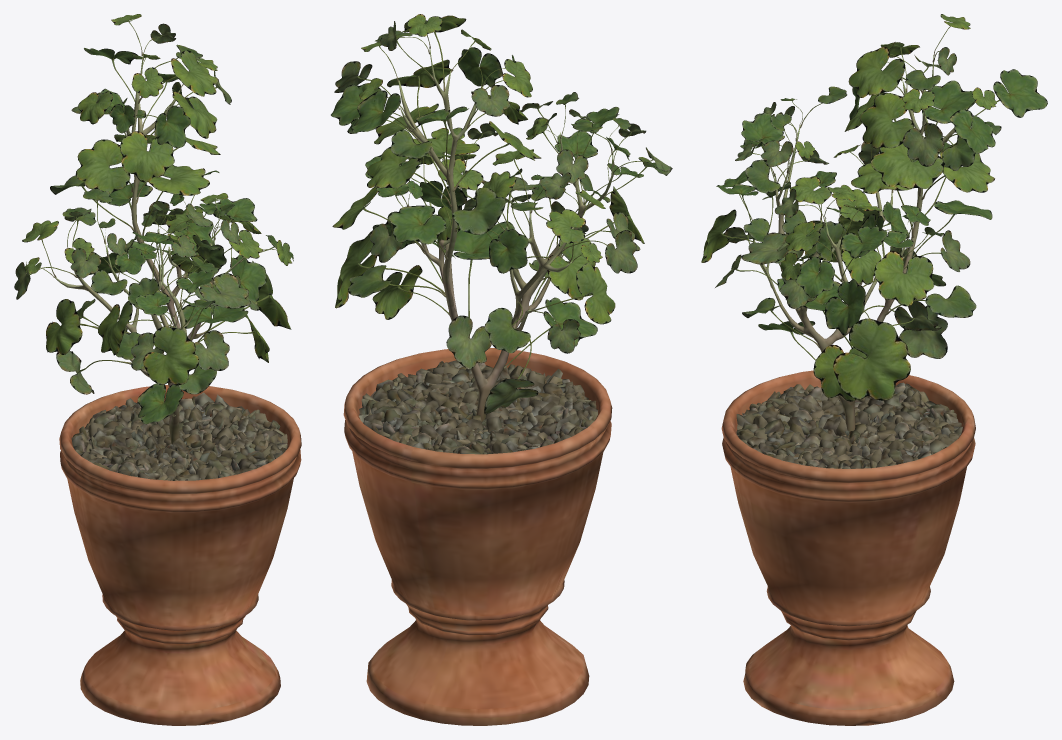
File: plant1.glb
The picture shows the model from 3 angles, left to right: view 1: azimuth 30°, elevation 25°; view 2: azimuth 150°, elevation 25°; view 3: azimuth 270°, elevation 25°; orthographic projection. The views are drawn at different scales.
Parts seen in each view (by area): view 1: potted_plant_01_pot, potted_plant_01_leaves, potted_plant_01_pebbles, potted_plant_01_stem; view 2: potted_plant_01_pot, potted_plant_01_leaves, potted_plant_01_pebbles, potted_plant_01_stem; view 3: potted_plant_01_pot, potted_plant_01_leaves, potted_plant_01_pebbles, potted_plant_01_stem.
Boxes of the visible parts, box(x1,y1,x2,y2) form: potted_plant_01_pot: box(59, 385, 301, 725); potted_plant_01_leaves: box(14, 14, 293, 424); potted_plant_01_pebbles: box(71, 392, 287, 480); potted_plant_01_stem: box(54, 54, 244, 443); potted_plant_01_pot: box(343, 348, 612, 725); potted_plant_01_leaves: box(331, 14, 672, 414); potted_plant_01_pebbles: box(359, 360, 597, 454); potted_plant_01_stem: box(398, 48, 613, 421); potted_plant_01_pot: box(721, 370, 975, 725); potted_plant_01_leaves: box(701, 14, 1047, 401); potted_plant_01_pebbles: box(736, 382, 962, 468); potted_plant_01_stem: box(752, 55, 967, 431).
Bounding box in the file's own units: 0.5874 × 1.34 × 0.6336.
Materials: 2 (2 with a texture image).
